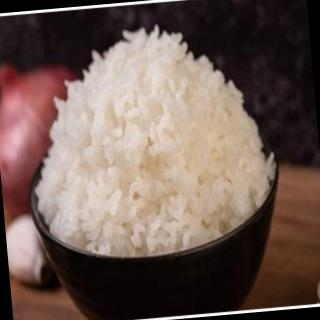Nasi: (21, 14, 285, 267)
